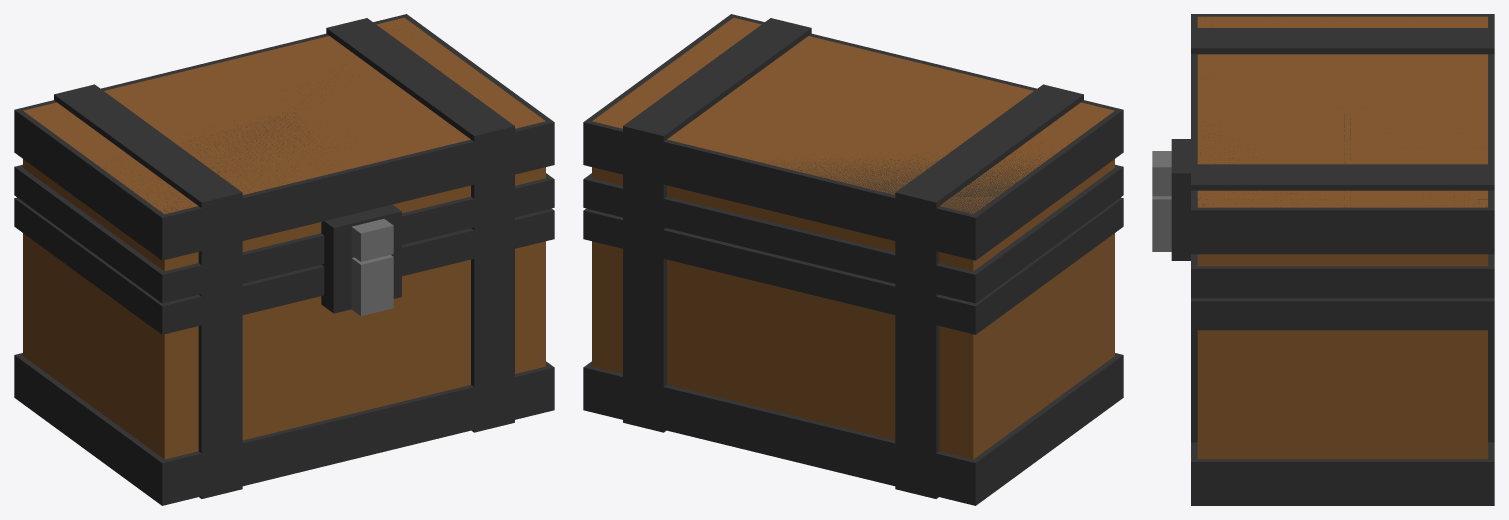
File: gehenna-reinforced-chest-named-nodes.glb
3 views of the same model, side by side, from view 1: azimuth 30°, elevation 25°; view 2: azimuth 150°, elevation 25°; view 3: azimuth 270°, elevation 25° (orthographic). The views are drawn at different scales.
Bounding box in the file's own units: 1.44 × 1.04 × 1.06.
